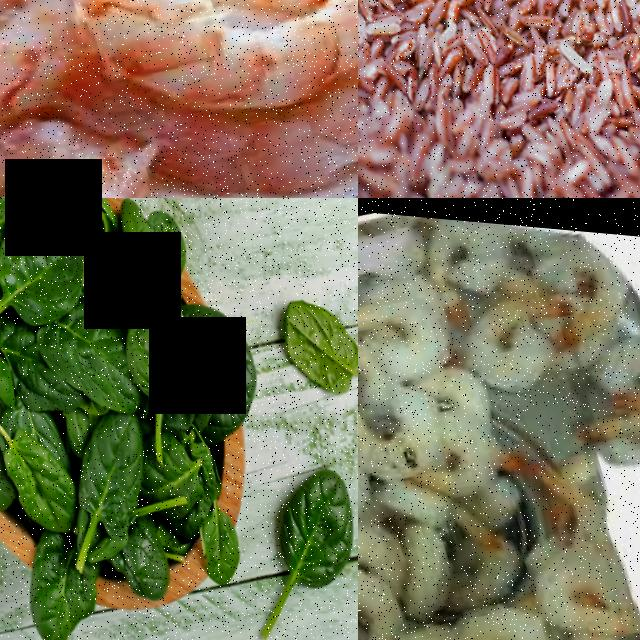red rice: (358, 0, 640, 198)
shrimp: (60, 0, 358, 158), (133, 21, 358, 198), (358, 268, 464, 399), (522, 530, 634, 640), (456, 280, 561, 394), (358, 371, 445, 484), (412, 210, 517, 298), (358, 547, 413, 640)
spinach: (250, 442, 358, 596), (181, 281, 272, 430), (109, 277, 209, 411), (55, 405, 151, 538), (0, 198, 97, 328), (264, 271, 358, 399), (4, 533, 93, 640), (58, 303, 137, 414), (3, 446, 80, 536), (185, 496, 250, 585), (0, 316, 54, 414), (144, 198, 192, 271)
